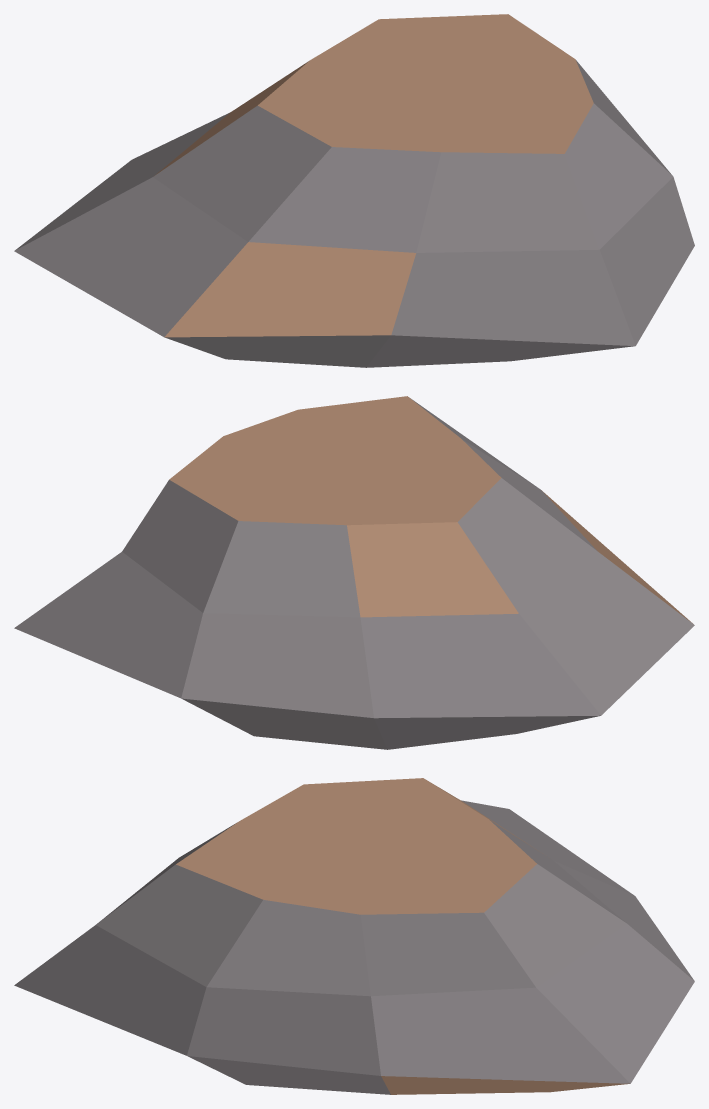
The model's file is ember_slag.glb.
3 renders of one model, top to bottom at view 1: azimuth 30°, elevation 25°; view 2: azimuth 150°, elevation 25°; view 3: azimuth 270°, elevation 25°, orthographic. The views are drawn at different scales.
Parts seen in each view (by area): view 1: ember_slag; view 2: ember_slag; view 3: ember_slag.
Part boxes in pixels (x1,y1,x2,y2): ember_slag: [14, 14, 694, 367]; ember_slag: [14, 396, 694, 749]; ember_slag: [14, 778, 694, 1094].
Bounding box in the file's own units: 0.9631 × 0.31 × 1.01.
